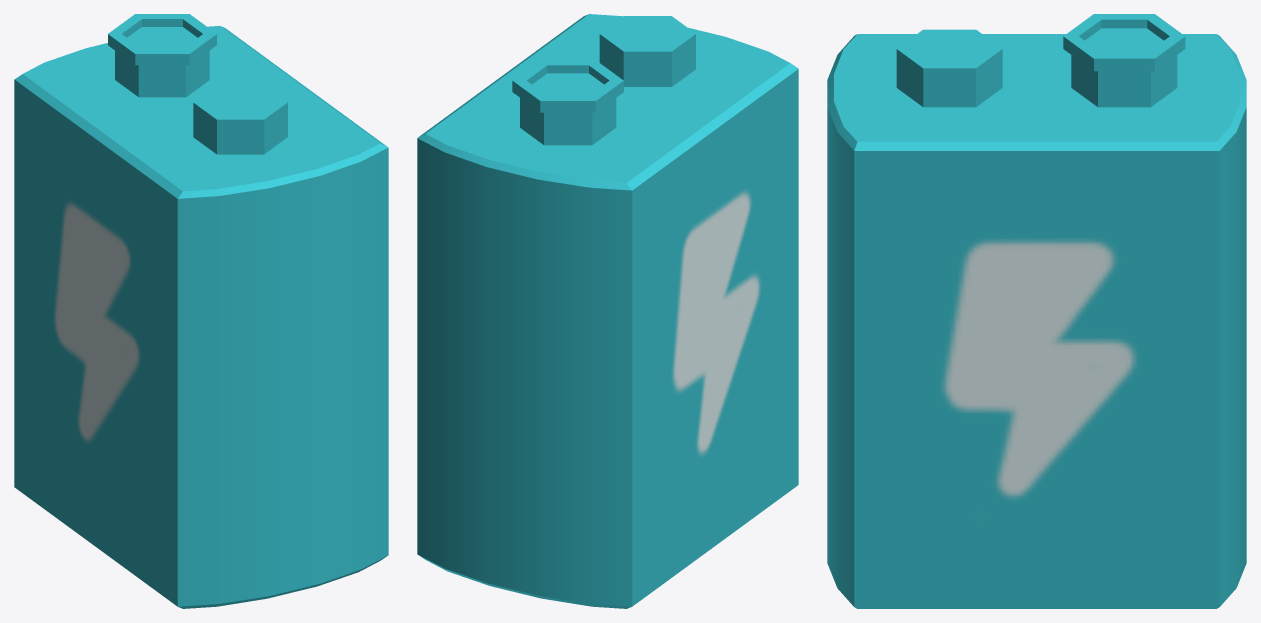
Rendered from Bateria.fbx.
The picture shows the model from 3 angles, left to right: view 1: azimuth 30°, elevation 25°; view 2: azimuth 150°, elevation 25°; view 3: azimuth 270°, elevation 25°; orthographic projection. The views are drawn at different scales.
Visible parts, largest first — view 1: Bateria; view 2: Bateria; view 3: Bateria.
Part boxes in pixels (bbox=[...]): Bateria: bbox=[14, 14, 388, 608]; Bateria: bbox=[417, 14, 798, 608]; Bateria: bbox=[827, 14, 1246, 608].
Bounding box in the file's own units: 76.19 × 160 × 117.
